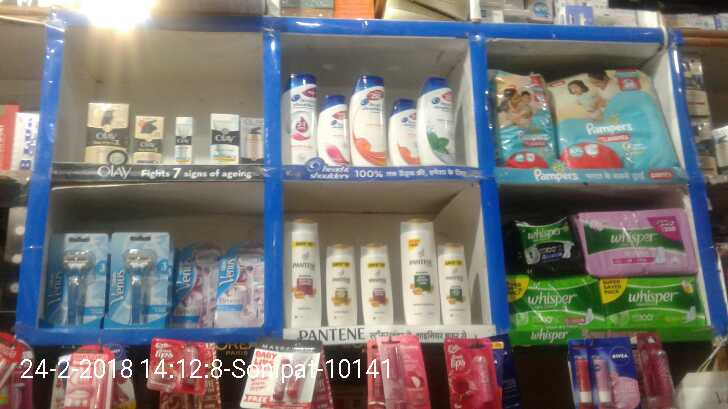venus: (110, 231, 173, 320), (50, 233, 110, 320), (218, 241, 263, 327), (178, 239, 218, 327)
